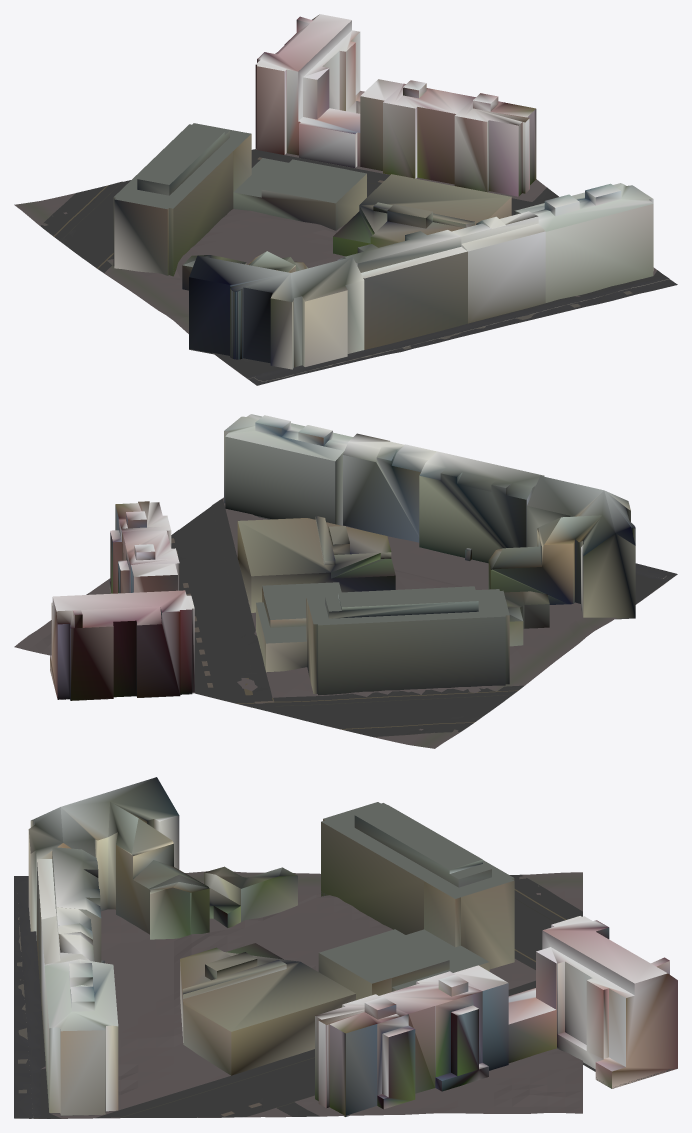
The picture shows the model from 3 angles, top to bottom: view 1: azimuth 30°, elevation 25°; view 2: azimuth 150°, elevation 25°; view 3: azimuth 270°, elevation 25°; orthographic projection. The views are drawn at different scales.
Parts seen in each view (by area): view 1: c_p00_m10; view 2: c_p00_m10; view 3: c_p00_m10.
Boxes of the visible parts, <box> form: c_p00_m10: <box>14,14,677,385</box>; c_p00_m10: <box>14,414,677,748</box>; c_p00_m10: <box>14,777,677,1118</box>.
Size of the model in its own units: 132 by 26.62 by 149.
